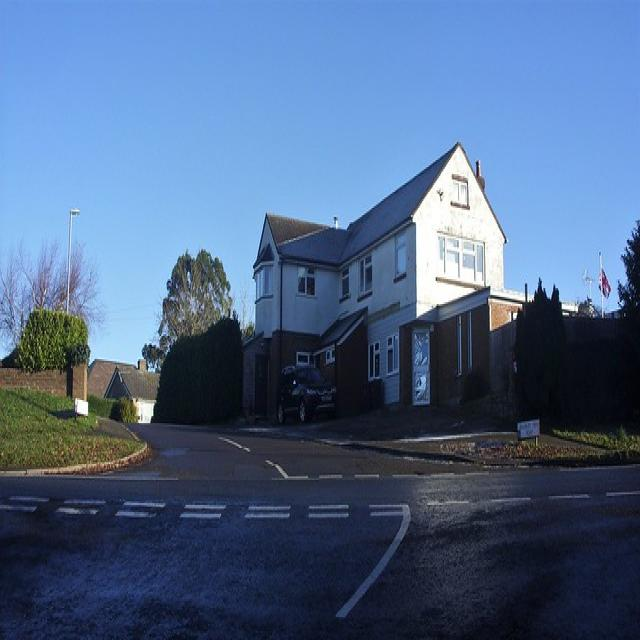Normal_building: (252, 143, 508, 431)
